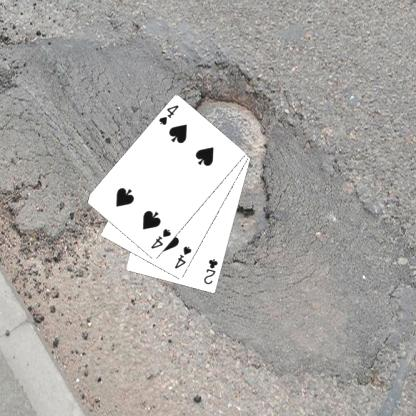2C: (201, 256, 219, 286)
4S: (155, 102, 180, 127), (148, 226, 172, 251), (172, 244, 193, 271)
